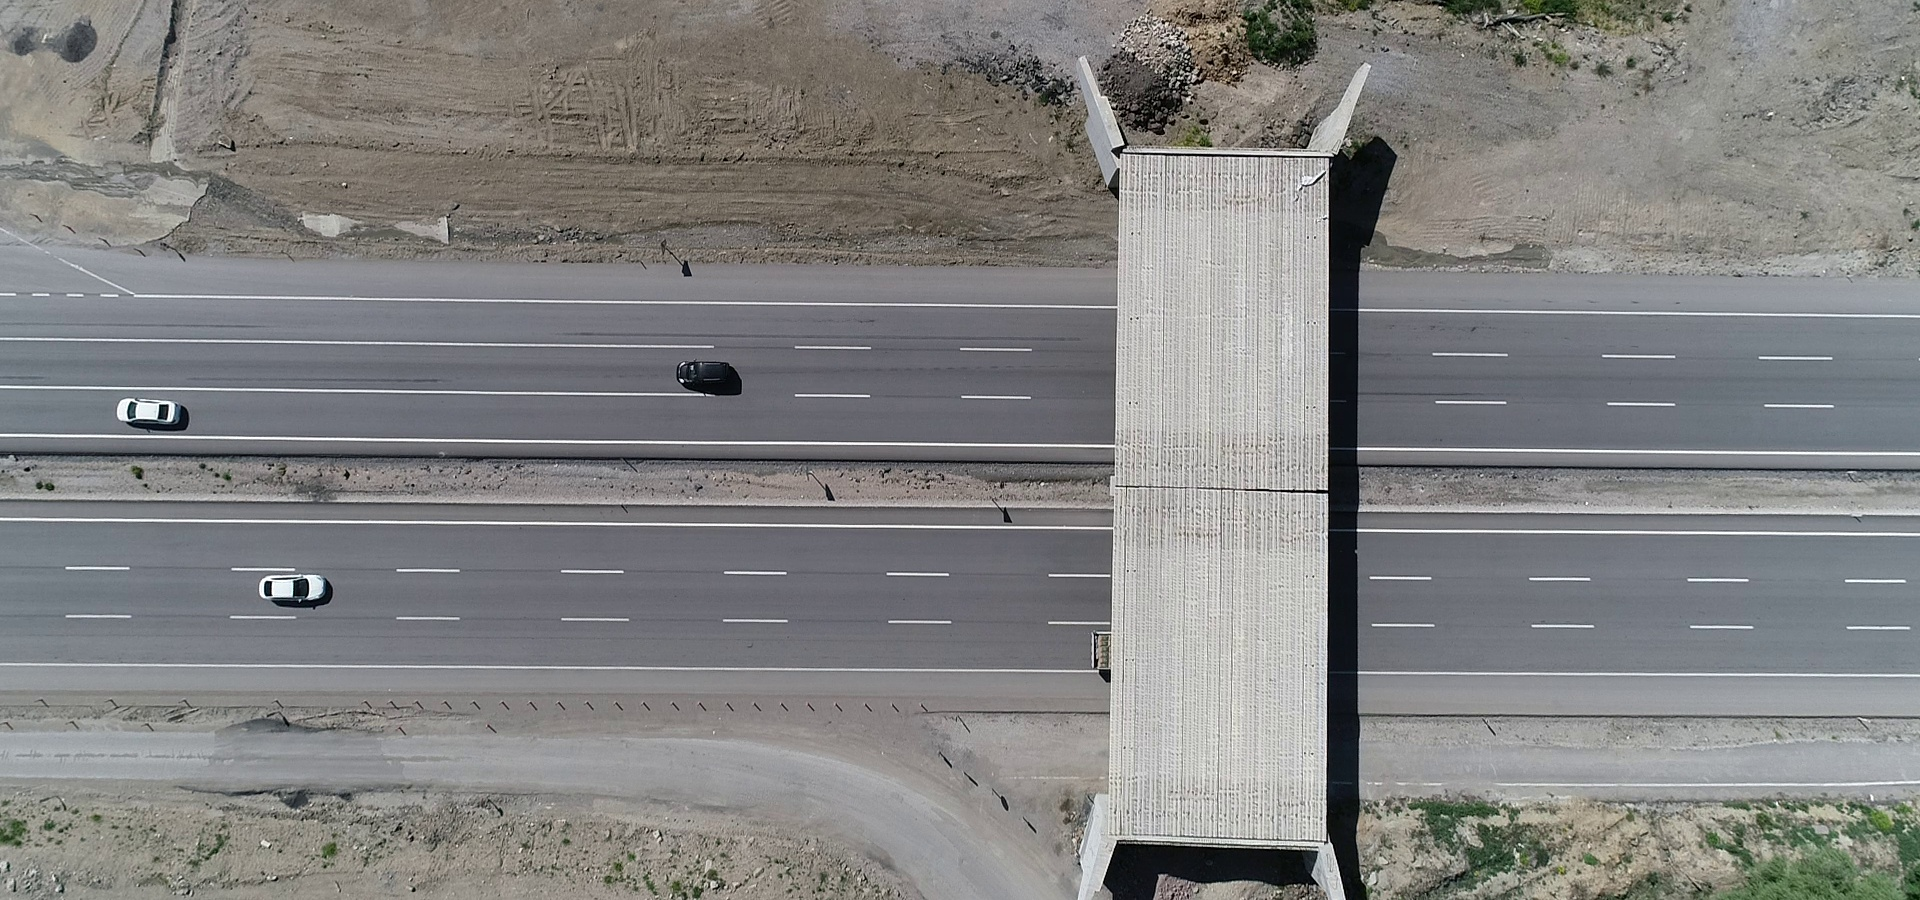arac: (250, 563, 347, 612), (108, 389, 193, 435), (676, 354, 740, 399)
